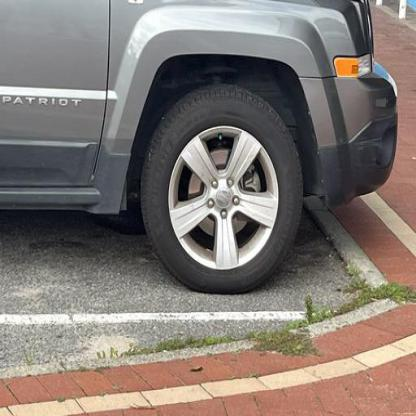Tire: (139, 84, 304, 295)
